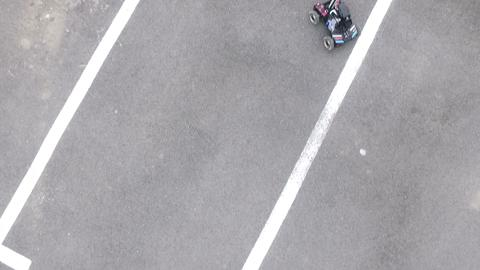chariot: (295, 1, 362, 53)
